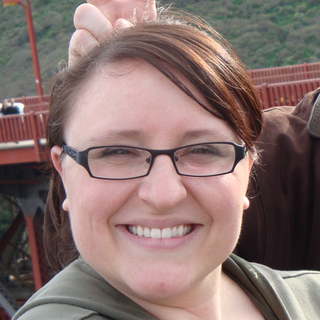eye: (179, 141, 225, 164), (95, 142, 142, 164)
